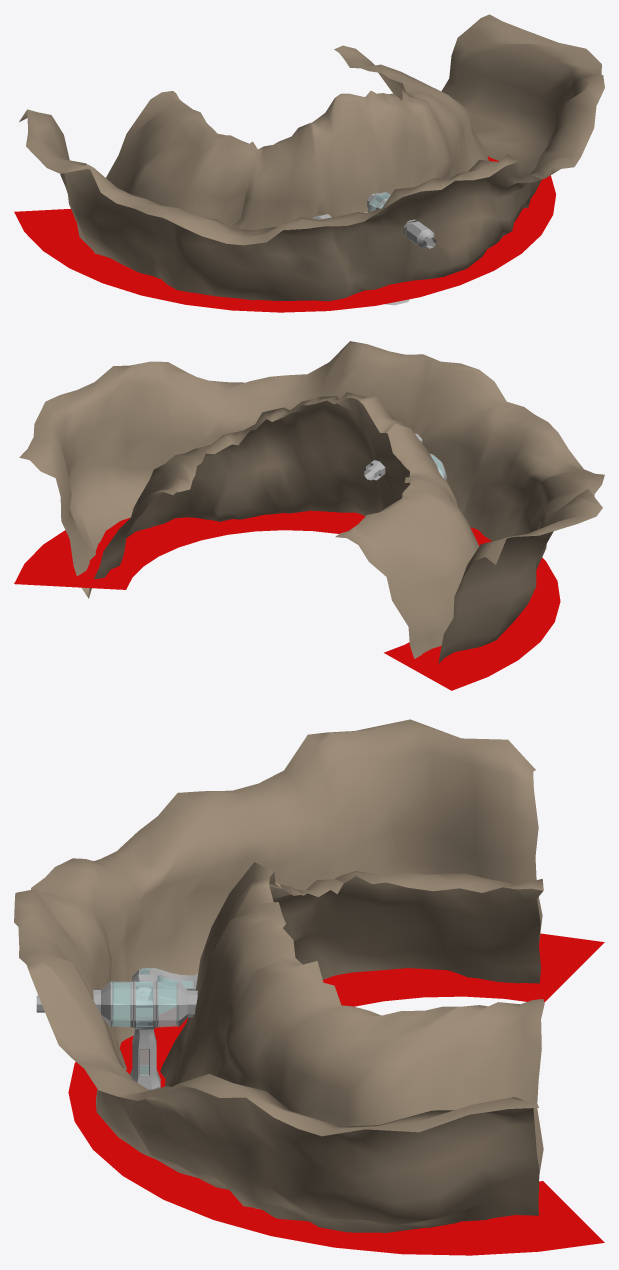
File: level_mesh.fbx
The picture shows the model from 3 angles, top to bottom: view 1: azimuth 30°, elevation 25°; view 2: azimuth 150°, elevation 25°; view 3: azimuth 270°, elevation 25°; orthographic projection. The views are drawn at different scales.
Parts seen in each view (by area): view 1: mountains, lava_river, level, level_outside; view 2: mountains, lava_river; view 3: mountains, lava_river, level_outside, level.
Part boxes in pixels (x1,y1,x2,y2): mountains: [19, 14, 604, 301]; lava_river: [14, 156, 555, 312]; level: [369, 193, 436, 305]; level_outside: [312, 191, 416, 235]; mountains: [19, 341, 604, 663]; lava_river: [14, 510, 560, 690]; mountains: [14, 719, 544, 1232]; lava_river: [68, 933, 604, 1255]; level_outside: [93, 967, 197, 1090]; level: [36, 968, 192, 1074].
Bounding box in the file's own units: 293 × 89.1 × 194.
